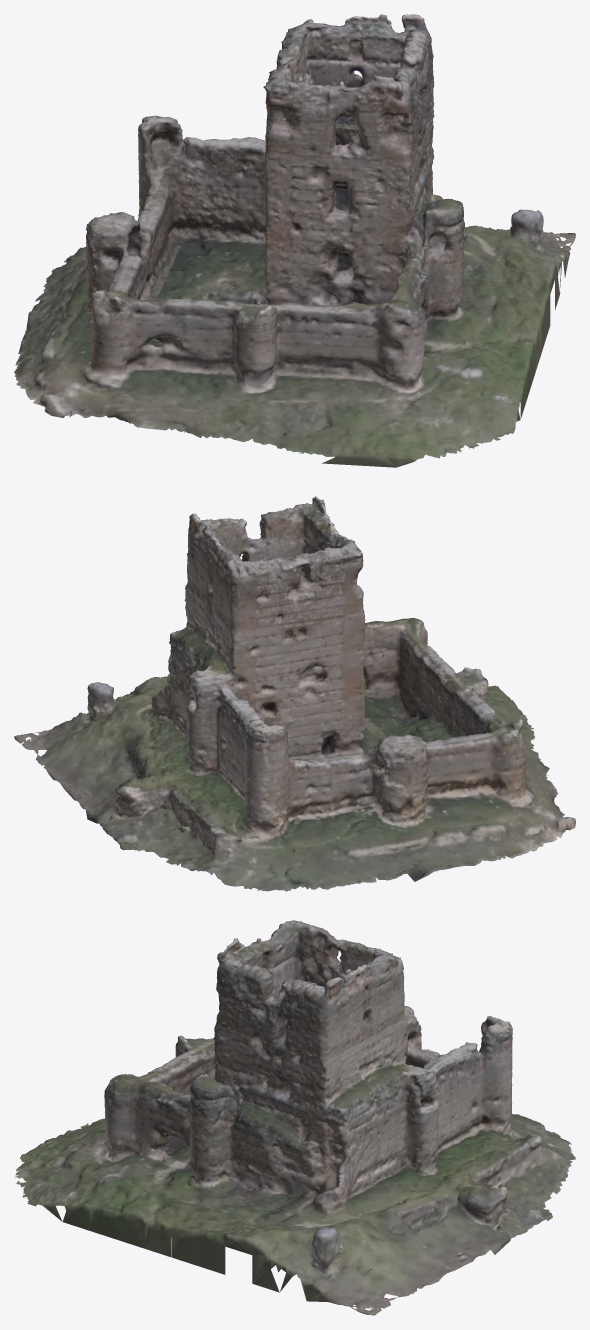
Rendered from castillo.obj.
3 renders of one model, top to bottom at view 1: azimuth 30°, elevation 25°; view 2: azimuth 150°, elevation 25°; view 3: azimuth 270°, elevation 25°, orthographic. The views are drawn at different scales.
Parts seen in each view (by area): view 1: take2_150k_take2_150k_Material_u1_v1; view 2: take2_150k_take2_150k_Material_u1_v1; view 3: take2_150k_take2_150k_Material_u1_v1.
Part boxes in pixels (x1,y1,x2,y2): take2_150k_take2_150k_Material_u1_v1: (14, 14, 575, 467); take2_150k_take2_150k_Material_u1_v1: (14, 496, 575, 891); take2_150k_take2_150k_Material_u1_v1: (14, 920, 575, 1315).
Bounding box in the file's own units: 29.51 × 13.92 × 27.08.
